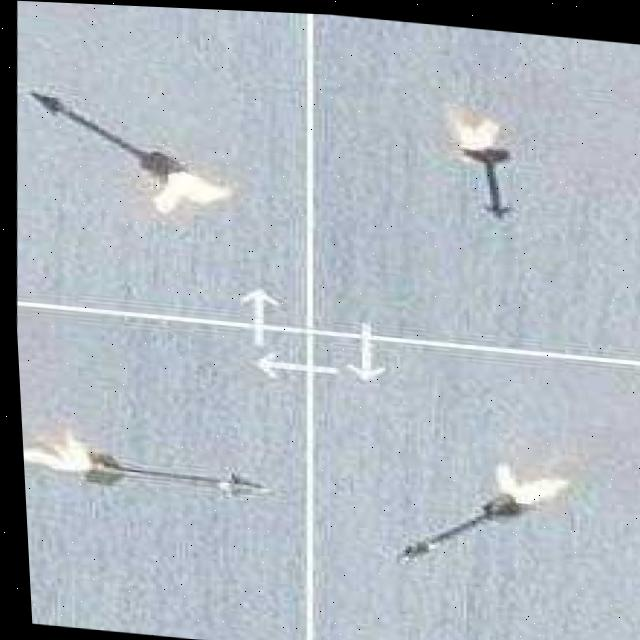missile: (31, 88, 187, 183), (384, 483, 529, 569), (80, 448, 270, 505), (460, 142, 514, 214)
